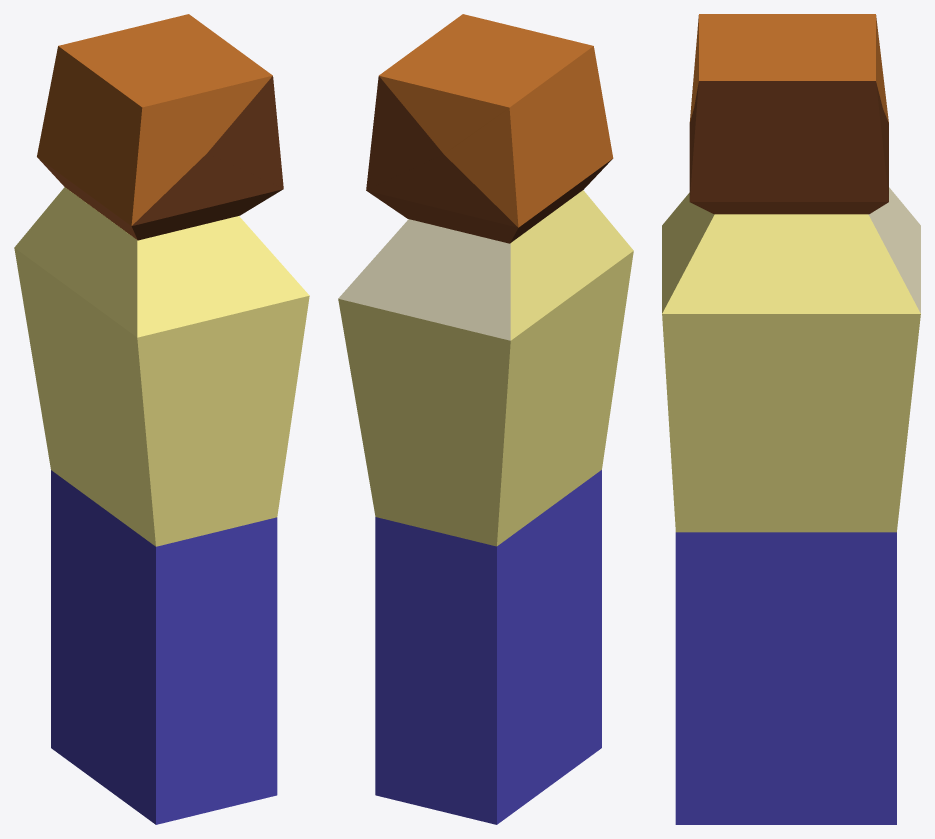
Rendered from person5.gltf.
3 views of the same model, side by side, from view 1: azimuth 30°, elevation 25°; view 2: azimuth 150°, elevation 25°; view 3: azimuth 270°, elevation 25° (orthographic). The views are drawn at different scales.
Visible parts, largest first — view 1: cube; view 2: cube; view 3: cube.
Part boxes in pixels (x1,y1,x2,y2): cube: [14, 14, 309, 824]; cube: [338, 14, 633, 824]; cube: [662, 14, 920, 824].
Bounding box in the file's own units: 0.5687 × 2.24 × 0.7027.
Materials: 1 (1 with a texture image).
